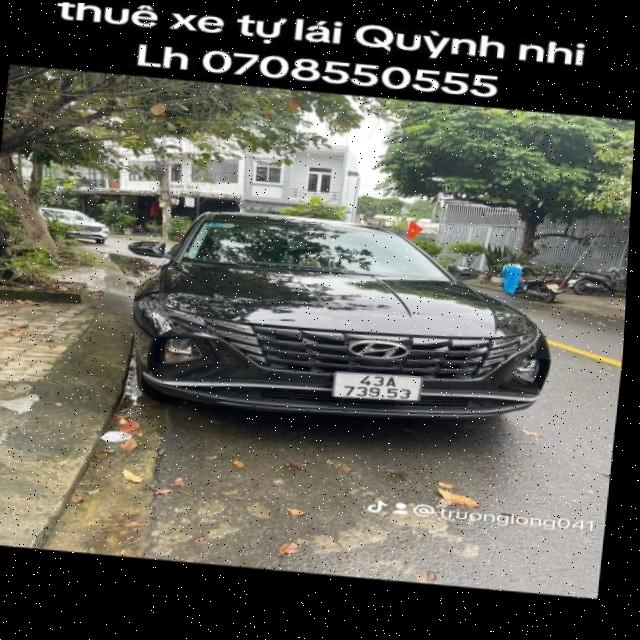car: (103, 191, 566, 456), (13, 1, 608, 118)
plate: (323, 361, 429, 410)
